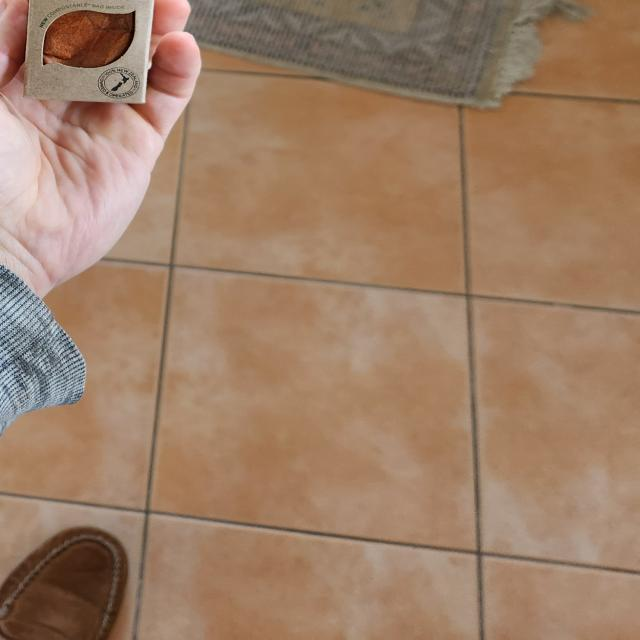cayenne pepper: (25, 0, 163, 105)
